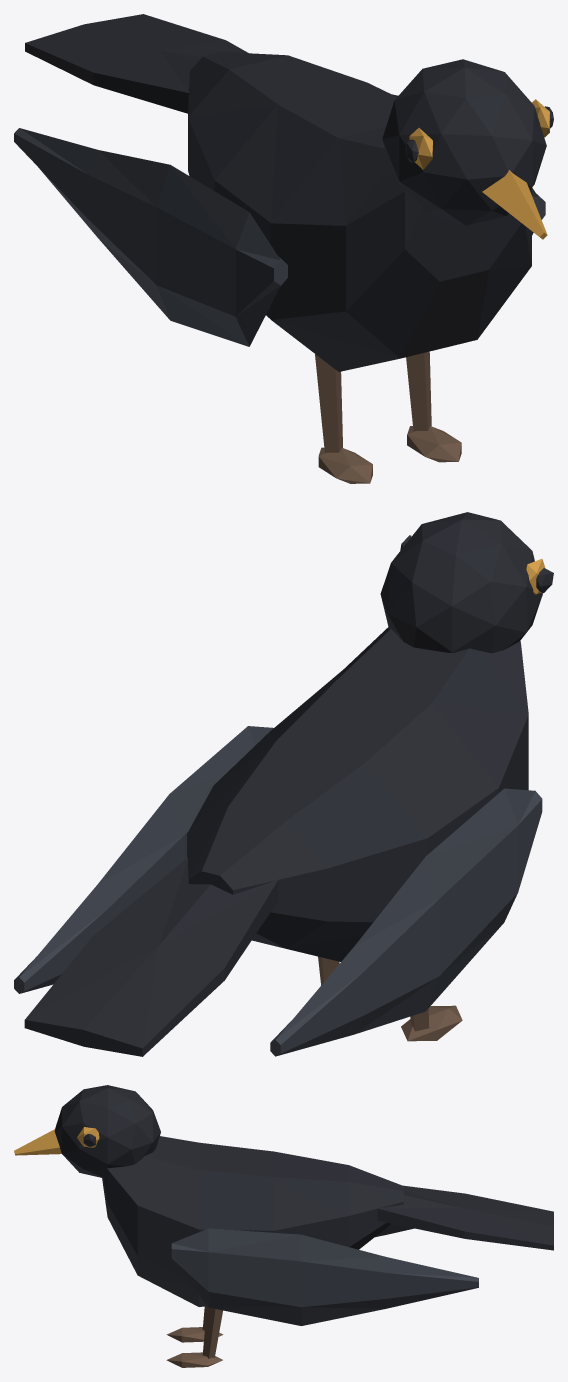
The model's file is Blackbird.fbx.
The picture shows the model from 3 angles, top to bottom: view 1: azimuth 30°, elevation 25°; view 2: azimuth 150°, elevation 25°; view 3: azimuth 270°, elevation 25°; orthographic projection. The views are drawn at different scales.
Parts seen in each view (by area): view 1: Blackbird_Body, Blackbird_WingR_Mesh, Blackbird_Head; view 2: Blackbird_Body, Blackbird_WingR_Mesh, Blackbird_Head, Blackbird_WingL_Mesh; view 3: Blackbird_Body, Blackbird_WingL_Mesh, Blackbird_Head.
Part boxes in pixels (<box>): Blackbird_Body: <box>25,14,531,483</box>; Blackbird_WingR_Mesh: <box>14,128,287,346</box>; Blackbird_Head: <box>382,59,553,239</box>; Blackbird_Body: <box>24,627,528,1056</box>; Blackbird_WingR_Mesh: <box>270,788,542,1056</box>; Blackbird_Head: <box>380,512,553,653</box>; Blackbird_WingL_Mesh: <box>14,726,273,993</box>; Blackbird_Body: <box>102,1136,553,1367</box>; Blackbird_WingL_Mesh: <box>171,1228,478,1325</box>; Blackbird_Head: <box>14,1085,160,1177</box>.
Size of the model in its own units: 0.1064 by 0.2967 by 0.1603.
